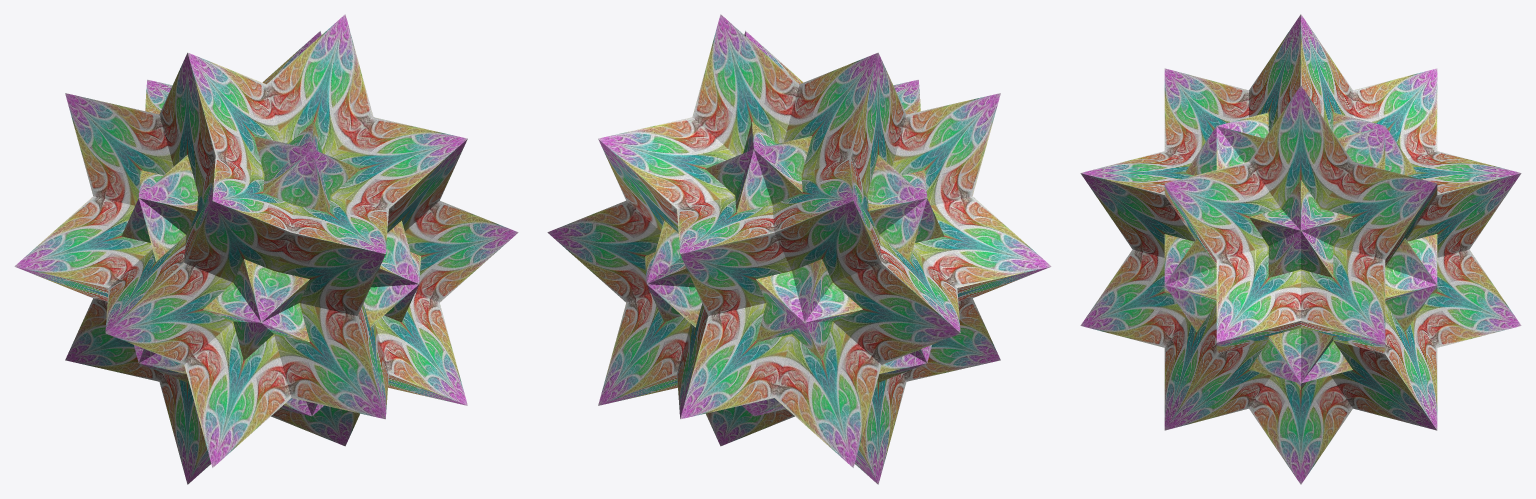
The model's file is GreatRhombicTriacontahedron6.obj.
The picture shows the model from 3 angles, left to right: view 1: azimuth 30°, elevation 25°; view 2: azimuth 150°, elevation 25°; view 3: azimuth 270°, elevation 25°; orthographic projection. The views are drawn at different scales.
Bounding box in the file's own units: 1.12 × 1.12 × 1.12.
1 material, 1 textured.
